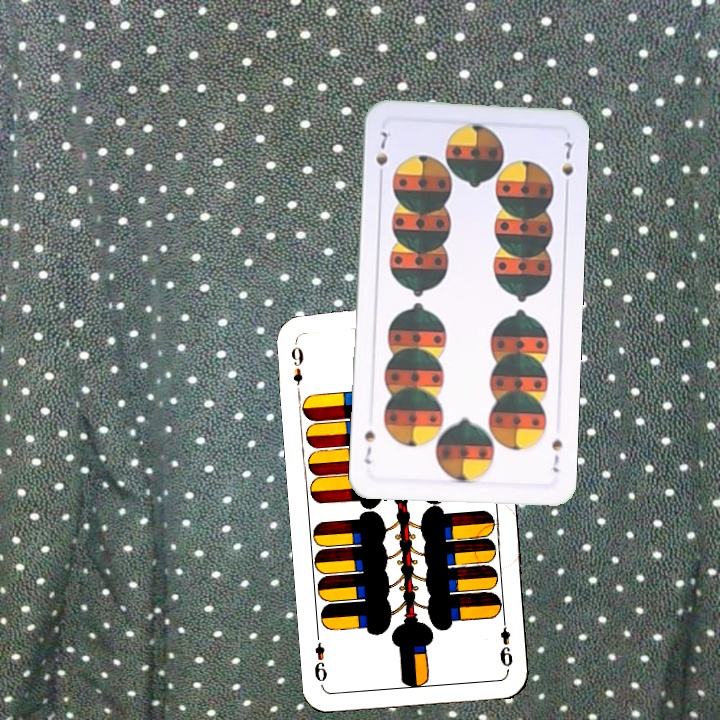E9: (287, 338, 306, 397), (496, 613, 516, 669)
S7: (372, 125, 391, 183), (547, 436, 565, 475)
